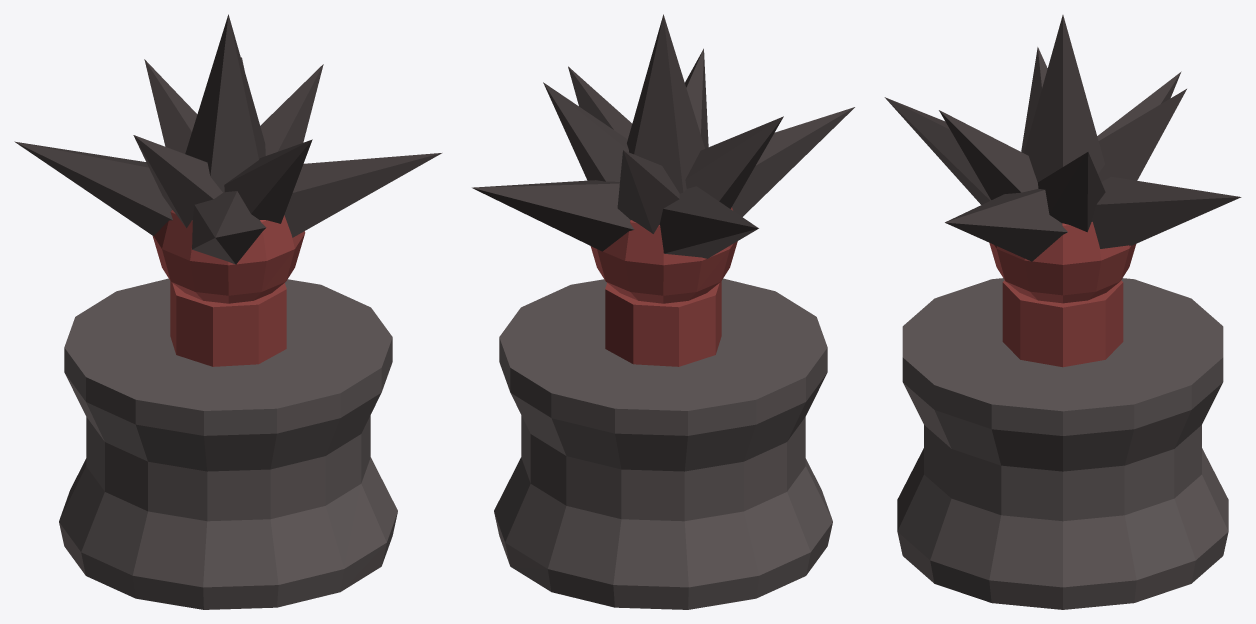
Rendered from void_sculpture_b.obj.
The picture shows the model from 3 angles, left to right: view 1: azimuth 30°, elevation 25°; view 2: azimuth 150°, elevation 25°; view 3: azimuth 270°, elevation 25°; orthographic projection.
Parts seen in each view (by area): view 1: void_sculpture_b_0, void_sculpture_b_2, void_sculpture_b_1, void_sculpture_b_11, void_sculpture_b_6, void_sculpture_b_10, void_sculpture_b_9, void_sculpture_b_8, void_sculpture_b_7, void_sculpture_b_3, void_sculpture_b_5; view 2: void_sculpture_b_0, void_sculpture_b_1, void_sculpture_b_11, void_sculpture_b_2, void_sculpture_b_4, void_sculpture_b_6, void_sculpture_b_7, void_sculpture_b_8, void_sculpture_b_3, void_sculpture_b_5, void_sculpture_b_10, void_sculpture_b_9; view 3: void_sculpture_b_0, void_sculpture_b_1, void_sculpture_b_2, void_sculpture_b_11, void_sculpture_b_4, void_sculpture_b_10, void_sculpture_b_9, void_sculpture_b_5, void_sculpture_b_3, void_sculpture_b_8, void_sculpture_b_6, void_sculpture_b_7.
Part boxes in pixels (box(x1,y1,x2,y2)): void_sculpture_b_0: box(59, 278, 397, 609); void_sculpture_b_2: box(152, 210, 305, 303); void_sculpture_b_1: box(170, 281, 286, 366); void_sculpture_b_11: box(185, 14, 265, 192); void_sculpture_b_6: box(14, 141, 172, 235); void_sculpture_b_10: box(284, 153, 441, 237); void_sculpture_b_9: box(224, 139, 312, 223); void_sculpture_b_8: box(192, 191, 266, 264); void_sculpture_b_7: box(133, 135, 222, 228); void_sculpture_b_3: box(260, 64, 323, 155); void_sculpture_b_5: box(144, 59, 197, 153); void_sculpture_b_0: box(494, 278, 832, 609); void_sculpture_b_1: box(605, 281, 721, 366); void_sculpture_b_11: box(627, 14, 704, 193); void_sculpture_b_2: box(590, 207, 737, 303); void_sculpture_b_4: box(472, 180, 634, 251); void_sculpture_b_6: box(659, 186, 758, 258); void_sculpture_b_7: box(685, 116, 783, 208); void_sculpture_b_8: box(732, 107, 854, 216); void_sculpture_b_3: box(543, 82, 628, 181); void_sculpture_b_5: box(617, 150, 679, 233); void_sculpture_b_10: box(568, 66, 632, 139); void_sculpture_b_9: box(685, 48, 708, 148); void_sculpture_b_0: box(897, 278, 1228, 609); void_sculpture_b_1: box(1002, 280, 1123, 367); void_sculpture_b_2: box(989, 222, 1136, 303); void_sculpture_b_11: box(1024, 15, 1104, 182); void_sculpture_b_4: box(1092, 177, 1241, 248); void_sculpture_b_10: box(945, 189, 1067, 261); void_sculpture_b_9: box(939, 110, 1038, 199); void_sculpture_b_5: box(1098, 89, 1186, 181); void_sculpture_b_3: box(1038, 152, 1105, 232); void_sculpture_b_8: box(884, 97, 990, 204); void_sculpture_b_6: box(1097, 71, 1181, 140); void_sculpture_b_7: box(1021, 47, 1047, 153).
Size of the model in its own units: 0.6526 by 1.06 by 0.6526.
